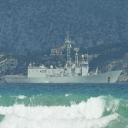Fragata: (4, 32, 124, 86)
